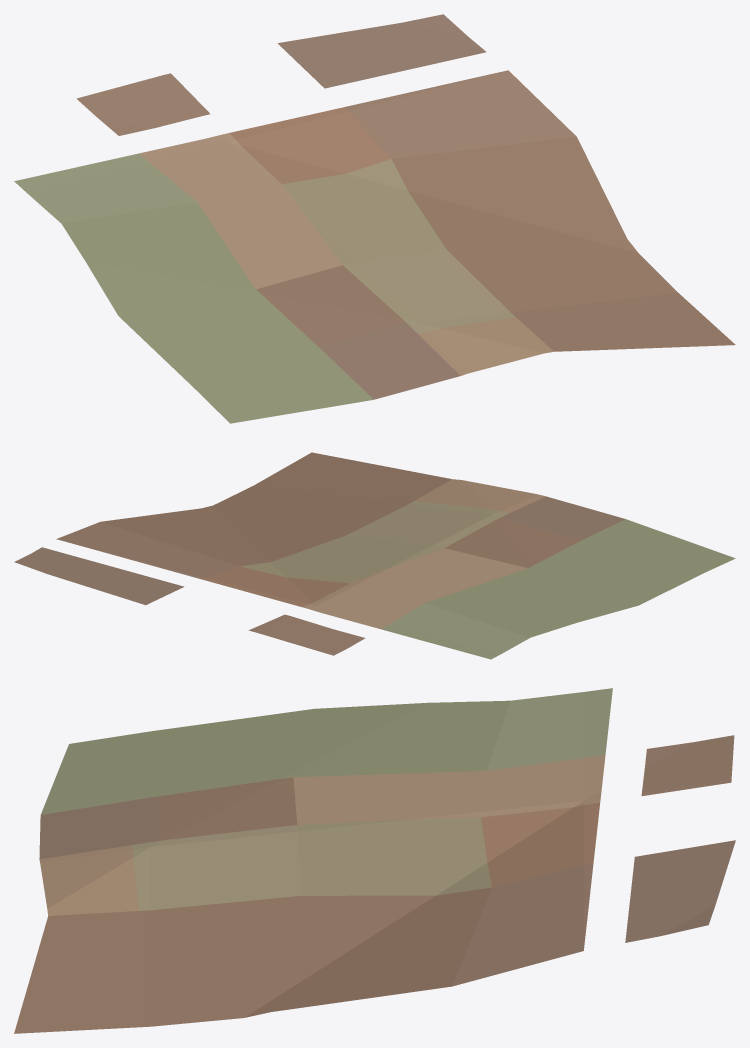
The model's file is farm_7_37_soil.glb.
3 renders of one model, top to bottom at view 1: azimuth 30°, elevation 25°; view 2: azimuth 150°, elevation 25°; view 3: azimuth 270°, elevation 25°, orthographic. The views are drawn at different scales.
Visible parts, largest first — view 1: geometry_0; view 2: geometry_0; view 3: geometry_0.
Part boxes in pixels (x1=…): geometry_0: x1=14, y1=14, x2=735, y2=423; geometry_0: x1=14, y1=452, x2=735, y2=659; geometry_0: x1=14, y1=688, x2=735, y2=1033.
Size of the model in its own units: 125 by 23.72 by 133.
